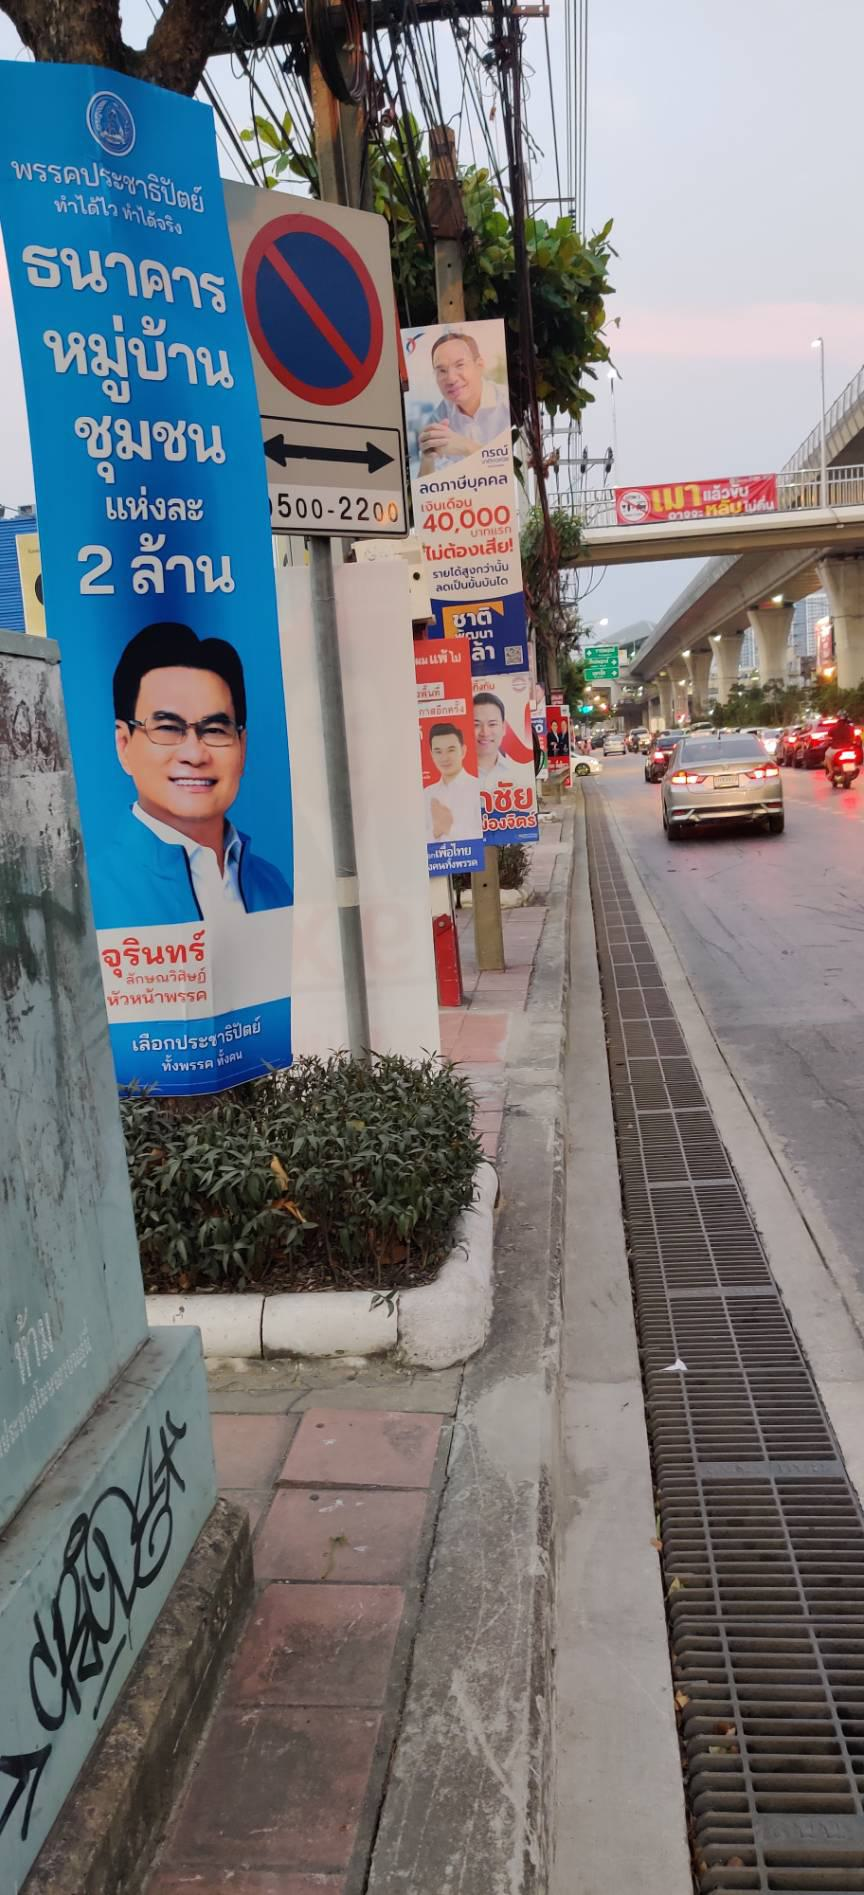Banner: (0, 59, 305, 1074), (385, 329, 533, 596)
